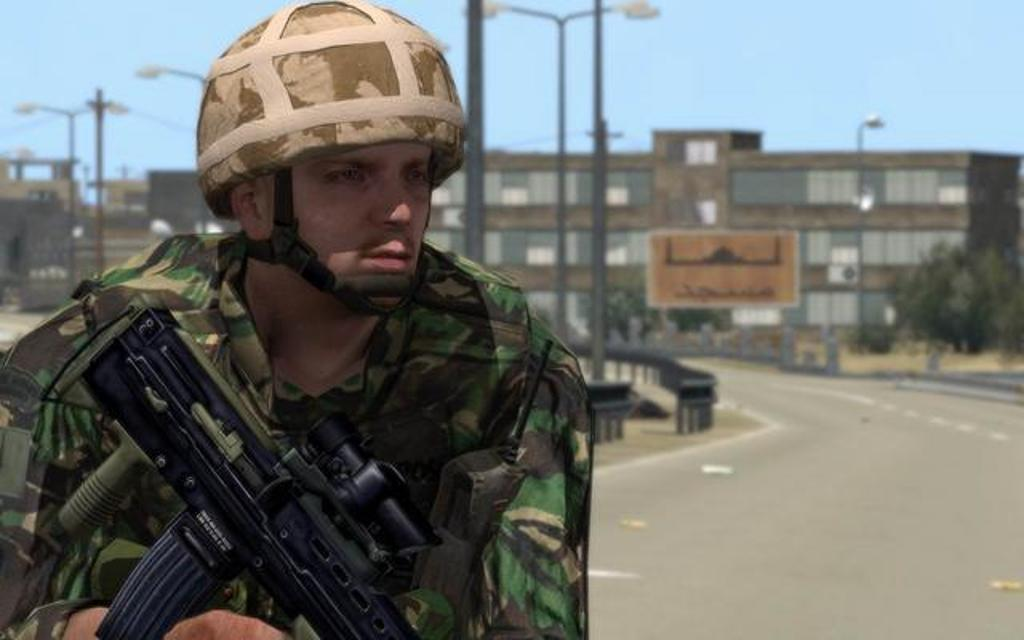face: (272, 112, 430, 302)
